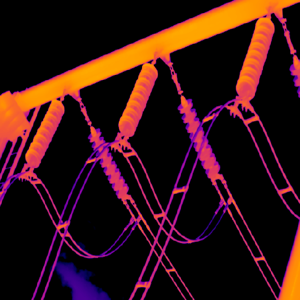insulator: (233, 16, 275, 101), (180, 91, 219, 178), (88, 123, 130, 201), (118, 63, 158, 138), (24, 98, 65, 168)
